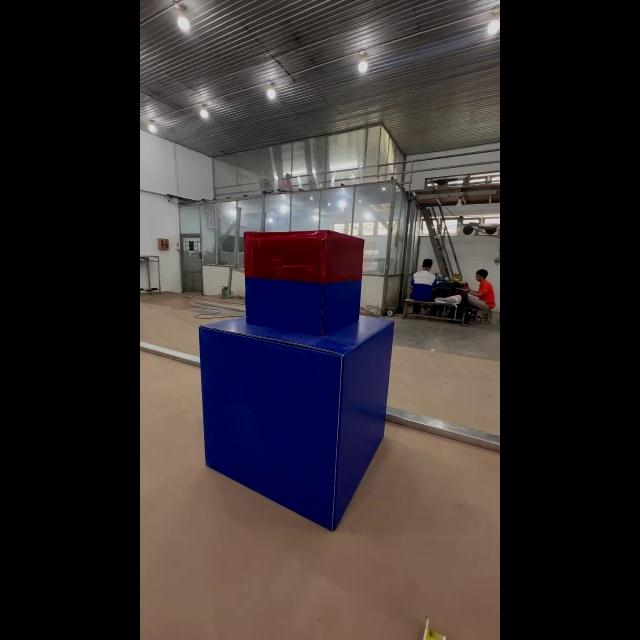earth_block: (194, 318, 396, 533)
sky_block: (240, 230, 369, 334)
